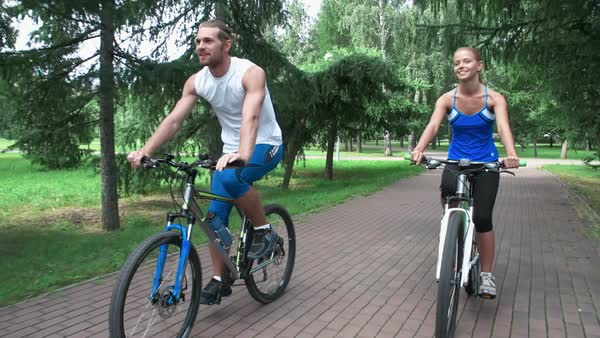no-helmet: (194, 20, 237, 74), (452, 47, 485, 84)
